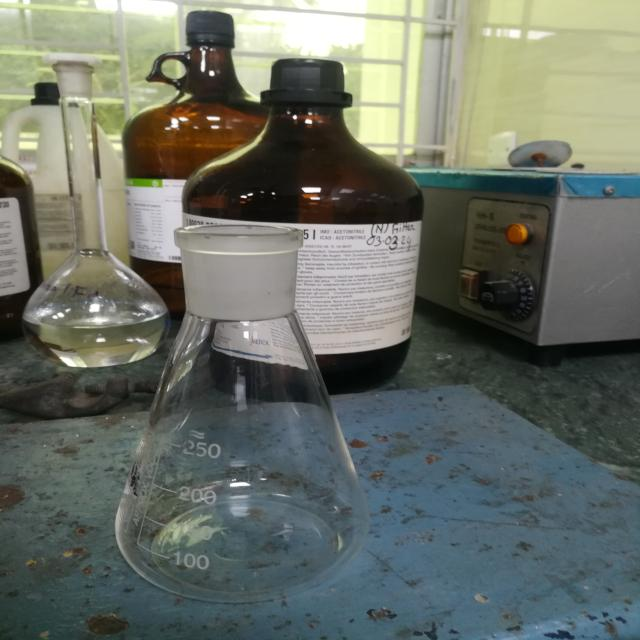Conical_Flask: (99, 189, 399, 617)
